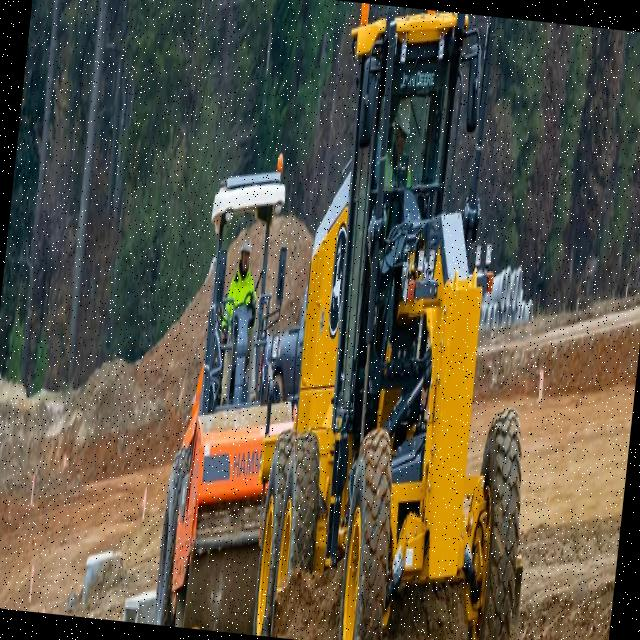Grader: (253, 11, 582, 640)
